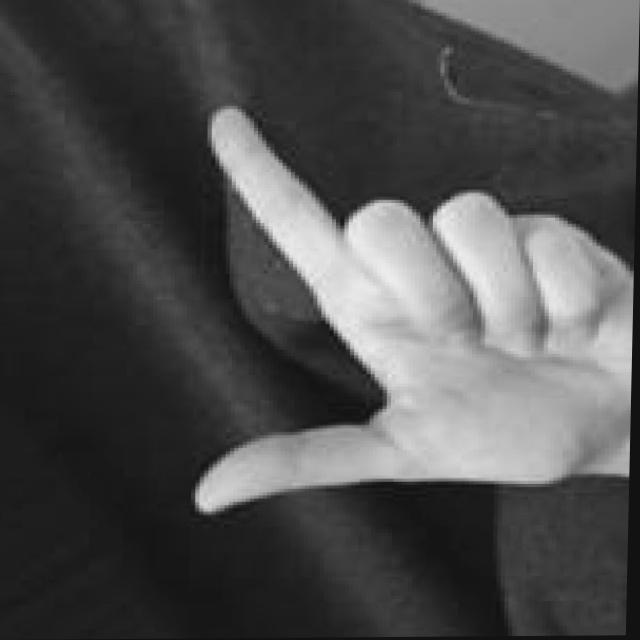L: (178, 93, 637, 528)
